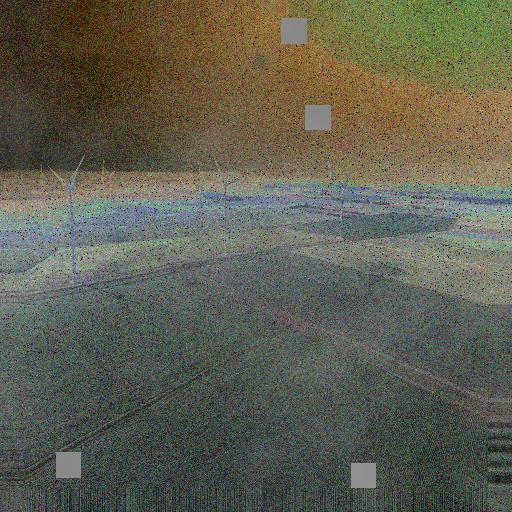wind turbine: (45, 153, 83, 287)
